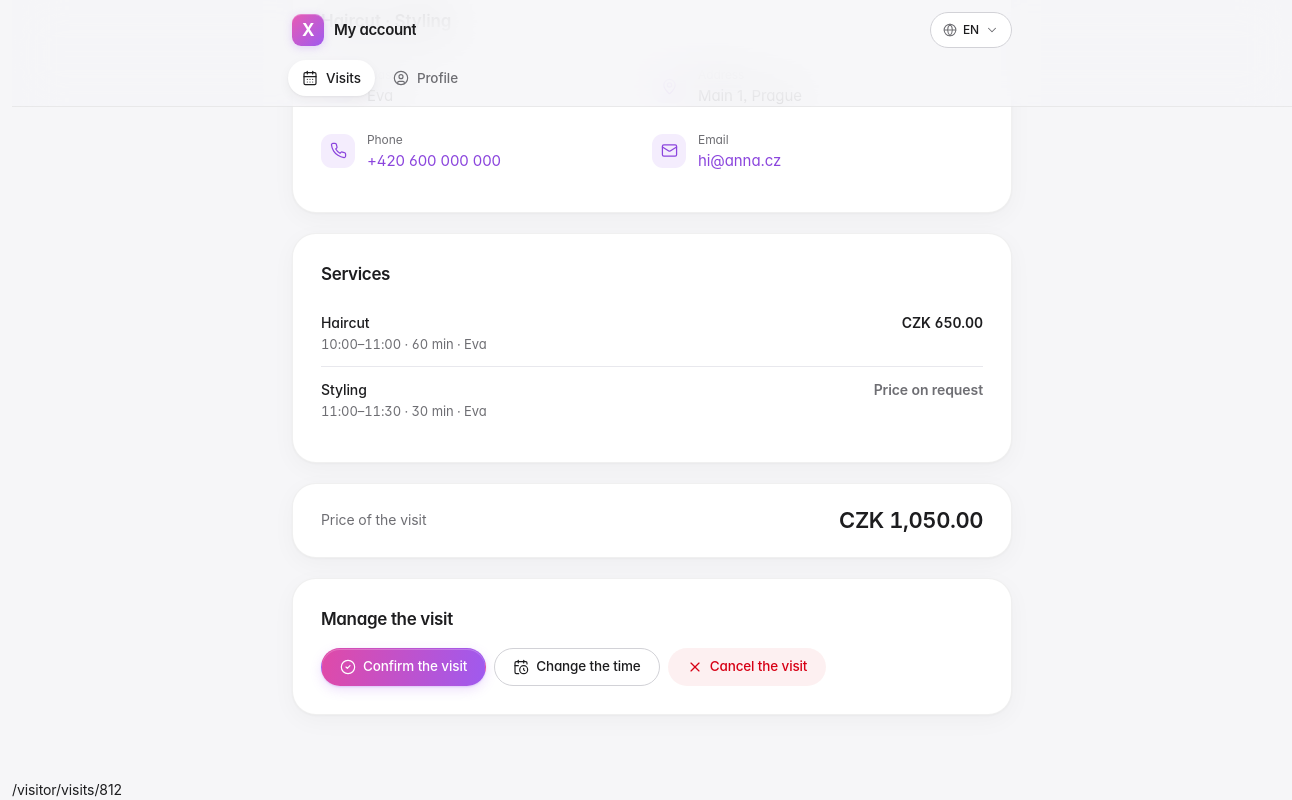
Test: reloads what is allowed after another booking conflict
(page scrolled)
Step 1. Click the button "Confirm the visit" → click(404, 667), box x1=321 y1=648 x2=486 y2=686
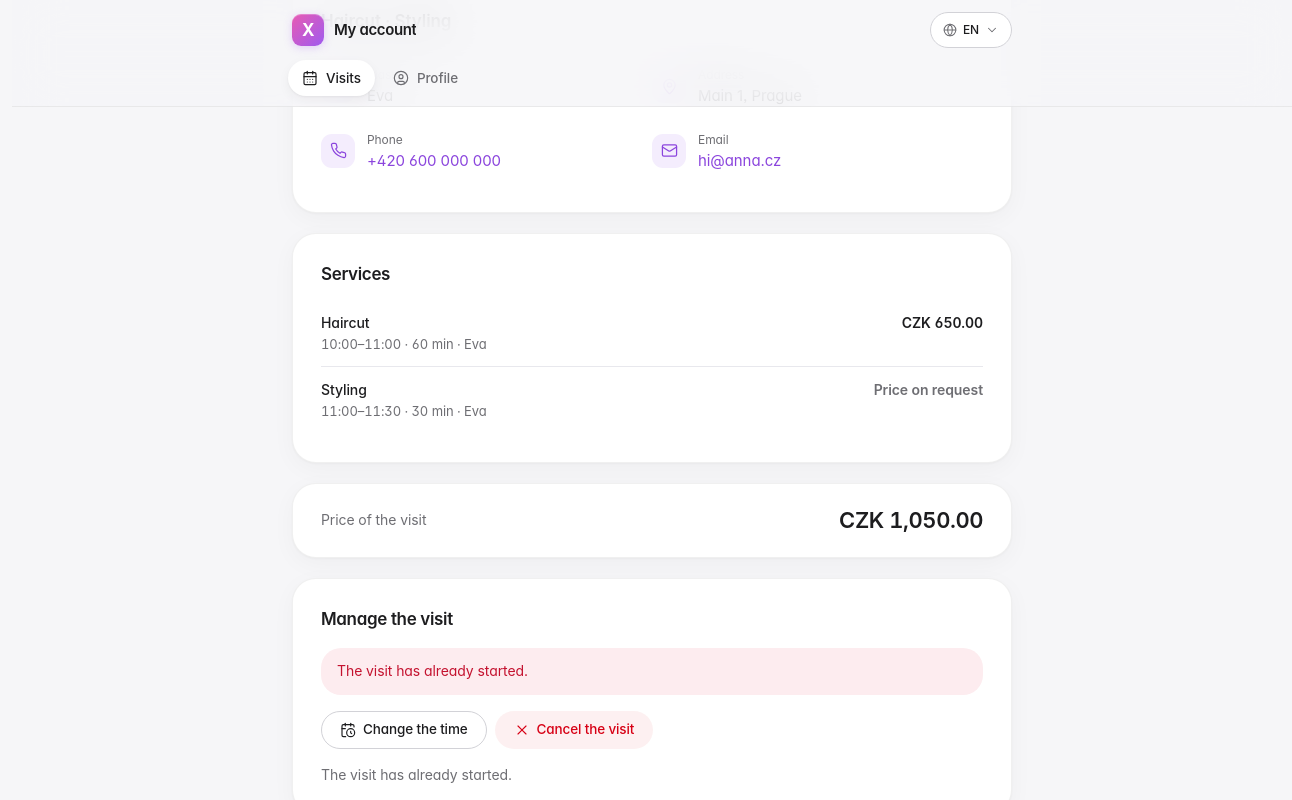
Expected: the message reads "The visit has already started.", x1=337 y1=662 x2=528 y2=679
Expected: the button "Confirm the visit" is gone
